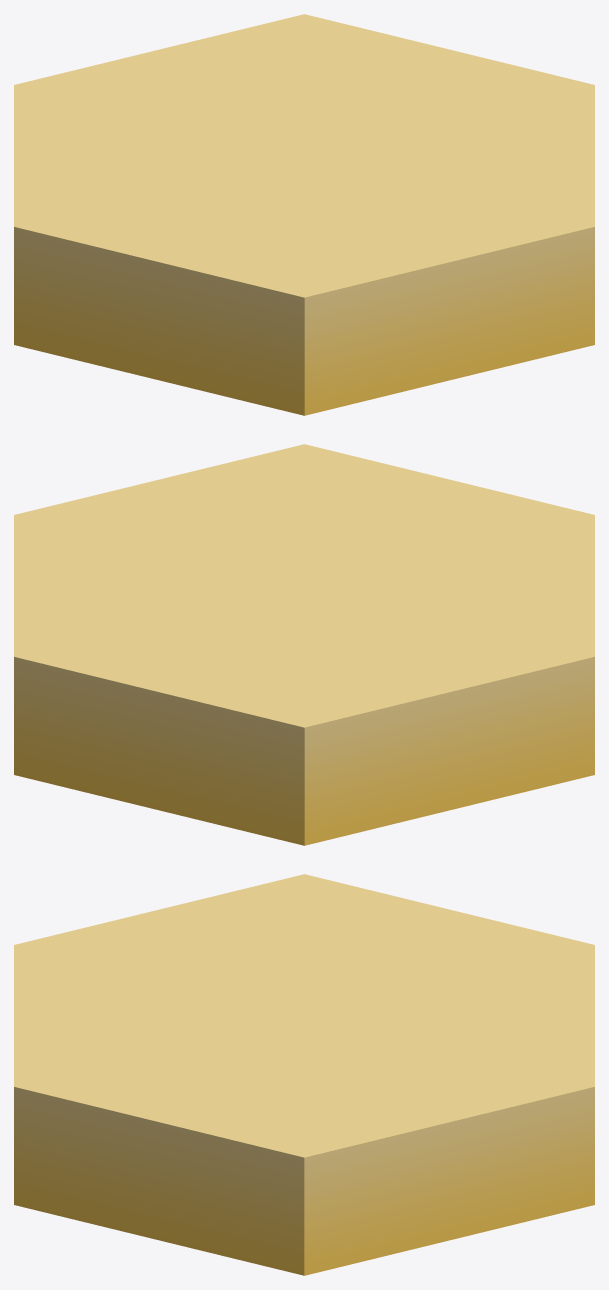
File: lowpoly_spot_sand.fbx
3 renders of one model, top to bottom at view 1: azimuth 30°, elevation 25°; view 2: azimuth 150°, elevation 25°; view 3: azimuth 270°, elevation 25°, orthographic.
Parts seen in each view (by area): view 1: lowpoly_spot_sand; view 2: lowpoly_spot_sand; view 3: lowpoly_spot_sand.
Boxes of the visible parts, box(x1,y1,x2,y2) form: lowpoly_spot_sand: box(14, 14, 594, 415); lowpoly_spot_sand: box(14, 444, 594, 845); lowpoly_spot_sand: box(14, 874, 594, 1275).
Size of the model in its own units: 366 by 71.12 by 317.
Materials: 1 (1 with a texture image).
